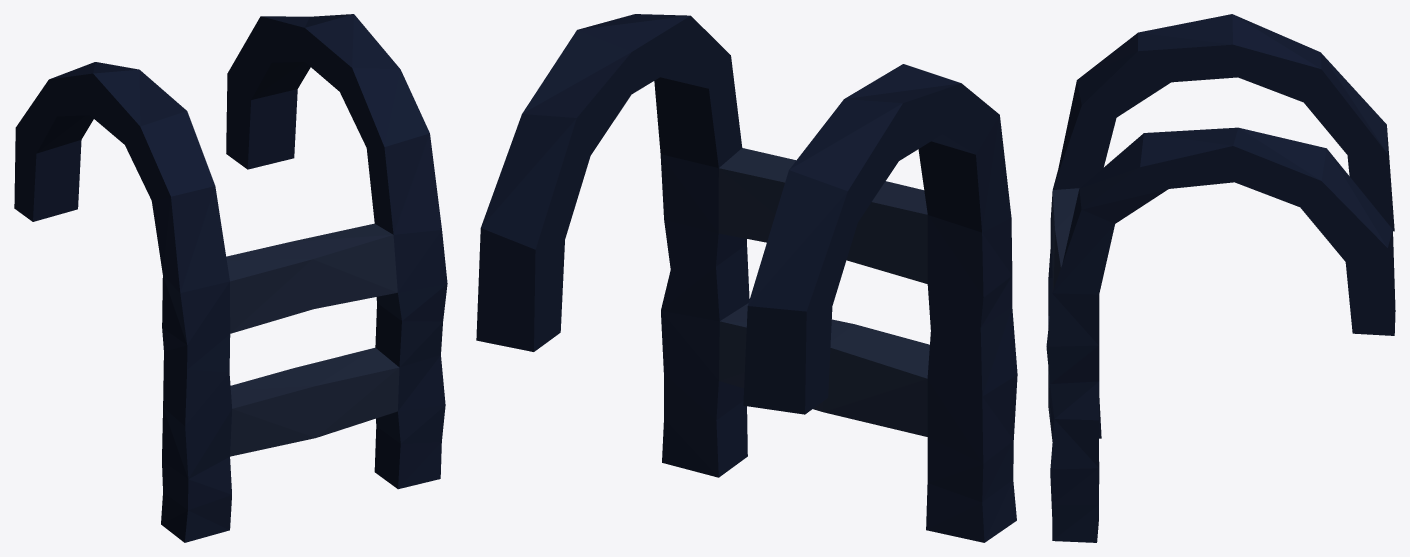
Rendered from prop_ladder_top.FBX.
3 views of the same model, side by side, from view 1: azimuth 30°, elevation 25°; view 2: azimuth 150°, elevation 25°; view 3: azimuth 270°, elevation 25° (orthographic). The views are drawn at different scales.
Parts seen in each view (by area): view 1: Object010; view 2: Object010; view 3: Object010.
Boxes of the visible parts, <box> form: Object010: <box>14,14,447,542</box>; Object010: <box>476,14,1017,542</box>; Object010: <box>1046,14,1395,542</box>.
Bounding box in the file's own units: 1.07 × 1.57 × 1.24.
